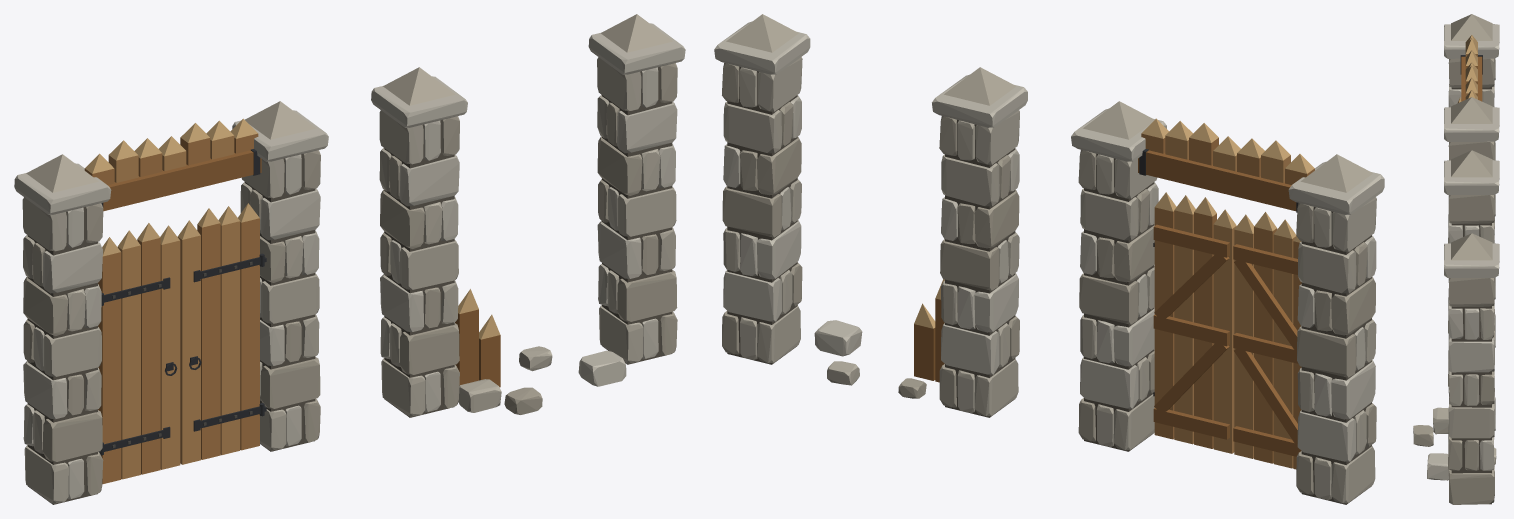
The model's file is gate-l2-kit.fbx.
The picture shows the model from 3 angles, left to right: view 1: azimuth 30°, elevation 25°; view 2: azimuth 150°, elevation 25°; view 3: azimuth 270°, elevation 25°; orthographic projection. The views are drawn at different scales.
Visible parts, largest first — view 1: Gate2_Breached_Pillar_Left, Gate2_Pillar_Left, Gate2_Breached_Pillar_Right, Gate2_Pillar_Right, Gate2_Leaf_Right, Gate2_Leaf_Left, Gate2_Lintel, Gate2_Breached_Rubble; view 2: Gate2_Breached_Pillar_Right, Gate2_Breached_Pillar_Left, Gate2_Pillar_Left, Gate2_Pillar_Right, Gate2_Leaf_Right, Gate2_Leaf_Left, Gate2_Lintel, Gate2_Breached_Rubble; view 3: Gate2_Breached_Pillar_Right, Gate2_Breached_Pillar_Left, Gate2_Pillar_Left, Gate2_Pillar_Right, Gate2_Breached_Rubble, Gate2_Lintel.
Part boxes in pixels (x1,y1,x2,y2): Gate2_Breached_Pillar_Left: (371, 67, 467, 417); Gate2_Pillar_Left: (14, 154, 111, 504); Gate2_Breached_Pillar_Right: (588, 14, 685, 364); Gate2_Pillar_Right: (232, 101, 328, 451); Gate2_Leaf_Right: (177, 203, 264, 464); Gate2_Leaf_Left: (98, 223, 180, 484); Gate2_Lintel: (84, 118, 266, 451); Gate2_Breached_Rubble: (455, 289, 626, 414); Gate2_Breached_Pillar_Right: (714, 14, 810, 364); Gate2_Breached_Pillar_Left: (932, 67, 1027, 417); Gate2_Pillar_Left: (1288, 154, 1384, 504); Gate2_Pillar_Right: (1071, 101, 1166, 451); Gate2_Leaf_Right: (1153, 192, 1236, 453); Gate2_Leaf_Left: (1233, 212, 1301, 469); Gate2_Lintel: (1138, 118, 1314, 396); Gate2_Breached_Rubble: (814, 279, 944, 398); Gate2_Breached_Pillar_Right: (1444, 233, 1499, 504); Gate2_Breached_Pillar_Left: (1444, 150, 1499, 392); Gate2_Pillar_Left: (1444, 14, 1499, 243); Gate2_Pillar_Right: (1444, 97, 1499, 333); Gate2_Breached_Rubble: (1413, 407, 1496, 480); Gate2_Lintel: (1460, 35, 1482, 101).
Bounding box in the file's own units: 713 × 362 × 107.
